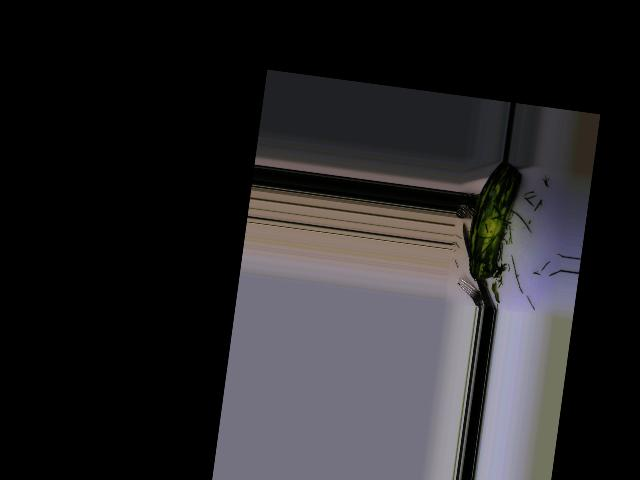cucumber: (464, 159, 523, 284)
